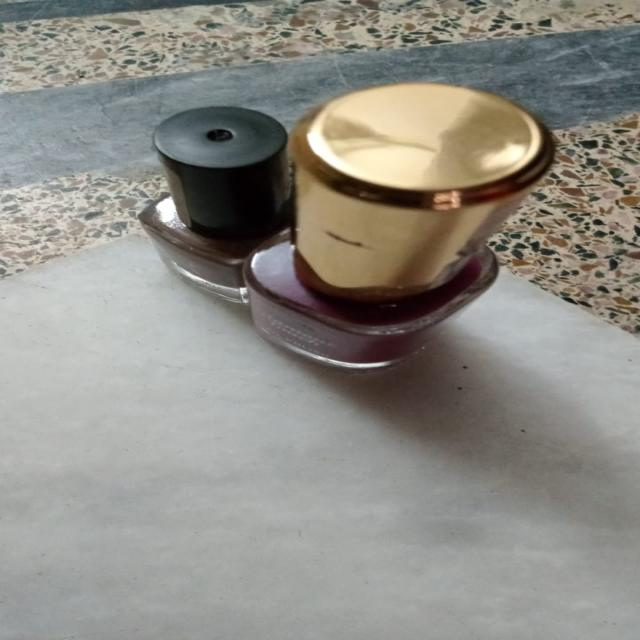nail polish: (107, 59, 588, 422)
